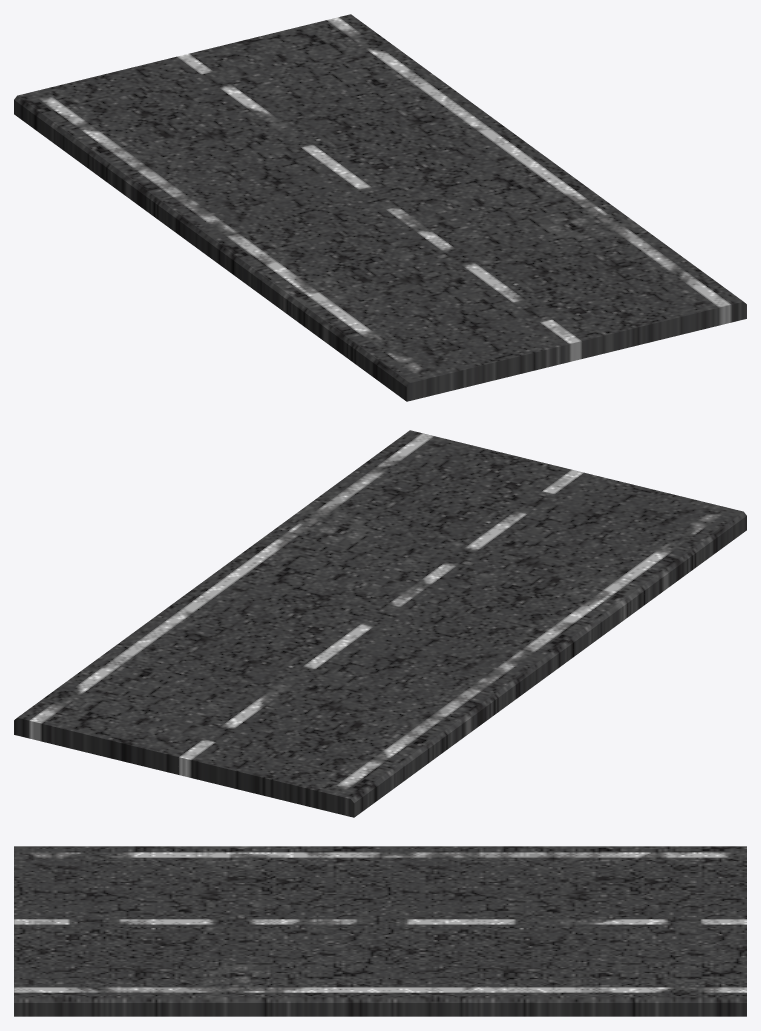
Rendered from Road.fbx.
The picture shows the model from 3 angles, top to bottom: view 1: azimuth 30°, elevation 25°; view 2: azimuth 150°, elevation 25°; view 3: azimuth 270°, elevation 25°; orthographic projection. The views are drawn at different scales.
Parts seen in each view (by area): view 1: Cube.015; view 2: Cube.015; view 3: Cube.015.
Boxes of the visible parts, box(x1,y1,x2,y2) form: Cube.015: box(14, 14, 746, 401); Cube.015: box(14, 430, 746, 817); Cube.015: box(14, 846, 746, 1016).
Size of the model in its own units: 609 by 30.6 by 1218.
1 material, 1 textured.
